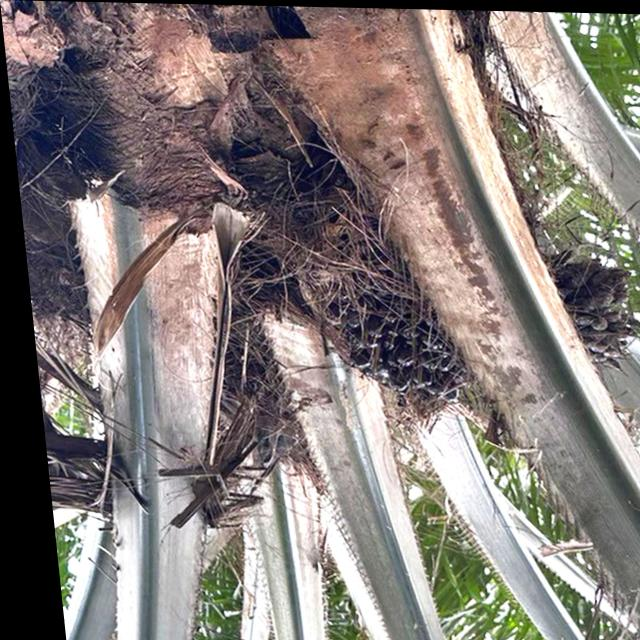almost: (263, 197, 463, 411)
